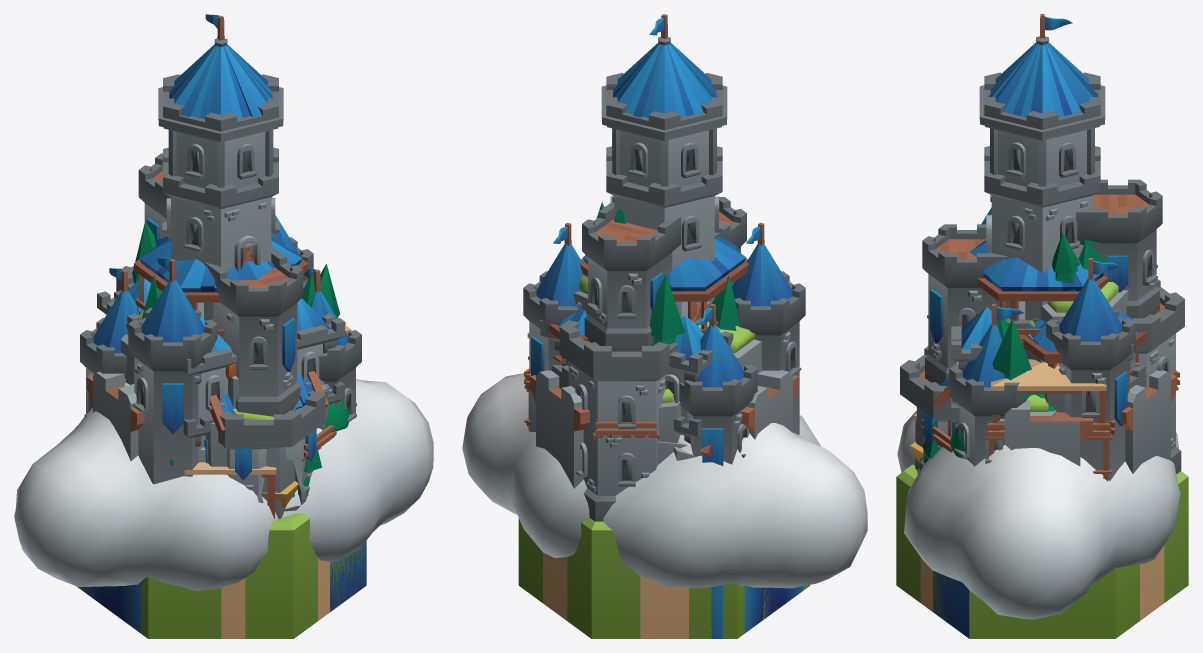
Rendered from kit.glb.
3 renders of one model, left to right at view 1: azimuth 30°, elevation 25°; view 2: azimuth 150°, elevation 25°; view 3: azimuth 270°, elevation 25°, orthographic.
Visible parts, largest first — view 1: building_castle_blue (×2), cloud_big, building_barracks_blue (×2), hex_river_B, hex_river_crossing_B, building_tower_B_top_blue, hex_river_crossing_A, mountain_C_grass, wall_corner_A_inside, hex_water, hex_road_I, mountain_A_grass_trees (+4 smaller); view 2: building_castle_blue (×2), cloud_big, hex_road_C, hex_river_crossing_A, wall_corner_A_outside, building_tower_B_top_blue, hex_river_crossing_B, building_barracks_blue, wall_corner_A_inside, mountain_A_grass_trees, hex_road_B, mountain_C_grass (+7 smaller); view 3: building_castle_blue (×2), cloud_big, hex_river_I, building_tower_B_top_blue, building_scaffolding, wall_straight, mountain_B_grass_trees, hex_river_crossing_B, hex_road_B, wall_corner_A_outside, building_archeryrange_blue, wall_corner_A_inside (+8 smaller).
Boxes of the visible parts, left/top/right/bottom form: building_castle_blue (×2): left=80, top=14, right=361, bottom=511; cloud_big: left=14, top=379, right=433, bottom=591; building_barracks_blue (×2): left=97, top=278, right=344, bottom=463; hex_river_B: left=77, top=522, right=293, bottom=638; hex_river_crossing_B: left=221, top=530, right=293, bottom=638; building_tower_B_top_blue: left=134, top=236, right=307, bottom=341; hex_river_crossing_A: left=292, top=513, right=330, bottom=638; mountain_C_grass: left=120, top=310, right=327, bottom=518; wall_corner_A_inside: left=93, top=371, right=144, bottom=461; hex_water: left=330, top=541, right=366, bottom=611; hex_road_I: left=221, top=566, right=292, bottom=638; mountain_A_grass_trees: left=132, top=221, right=339, bottom=430; building_castle_blue (×2): left=523, top=14, right=805, bottom=521; cloud_big: left=462, top=373, right=867, bottom=588; hex_road_C: left=591, top=522, right=711, bottom=638; hex_river_crossing_A: left=591, top=521, right=711, bottom=638; wall_corner_A_outside: left=536, top=370, right=792, bottom=488; building_tower_B_top_blue: left=580, top=236, right=748, bottom=333; hex_river_crossing_B: left=543, top=523, right=591, bottom=638; building_barracks_blue: left=540, top=283, right=733, bottom=443; wall_corner_A_inside: left=529, top=375, right=799, bottom=488; mountain_A_grass_trees: left=585, top=254, right=740, bottom=345; hex_road_B: left=543, top=518, right=592, bottom=628; mountain_C_grass: left=659, top=321, right=762, bottom=443; building_castle_blue (×2): left=900, top=14, right=1184, bottom=480; cloud_big: left=897, top=410, right=1180, bottom=619; hex_river_I: left=896, top=469, right=1188, bottom=638; building_tower_B_top_blue: left=970, top=240, right=1108, bottom=349; building_scaffolding: left=913, top=359, right=1179, bottom=481; wall_straight: left=1004, top=400, right=1092, bottom=466; mountain_B_grass_trees: left=996, top=206, right=1135, bottom=416; hex_river_crossing_B: left=1140, top=477, right=1188, bottom=620; hex_road_B: left=1140, top=473, right=1188, bottom=619; wall_corner_A_outside: left=1127, top=374, right=1177, bottom=460; building_archeryrange_blue: left=1019, top=311, right=1146, bottom=412; wall_corner_A_inside: left=1121, top=370, right=1170, bottom=473.
Bounding box in the file's own units: 3.61 × 4.98 × 2.31.
Materials: 1 (1 with a texture image).
